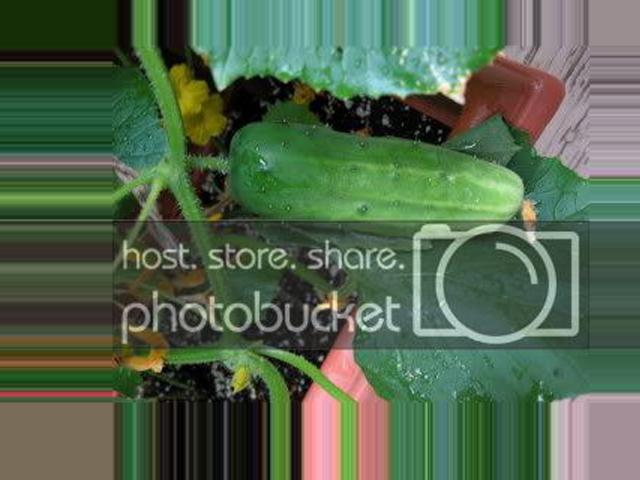cucumber: (231, 120, 526, 239)
